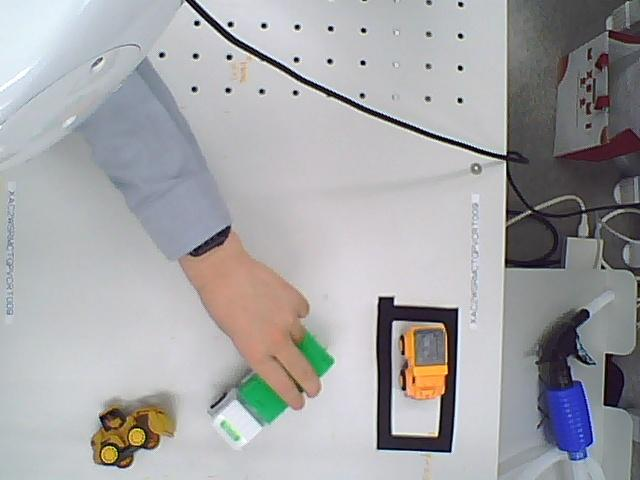Diesel car: (397, 324, 453, 402)
Electric car: (210, 335, 333, 453)
Gasoline car: (88, 398, 181, 472)
